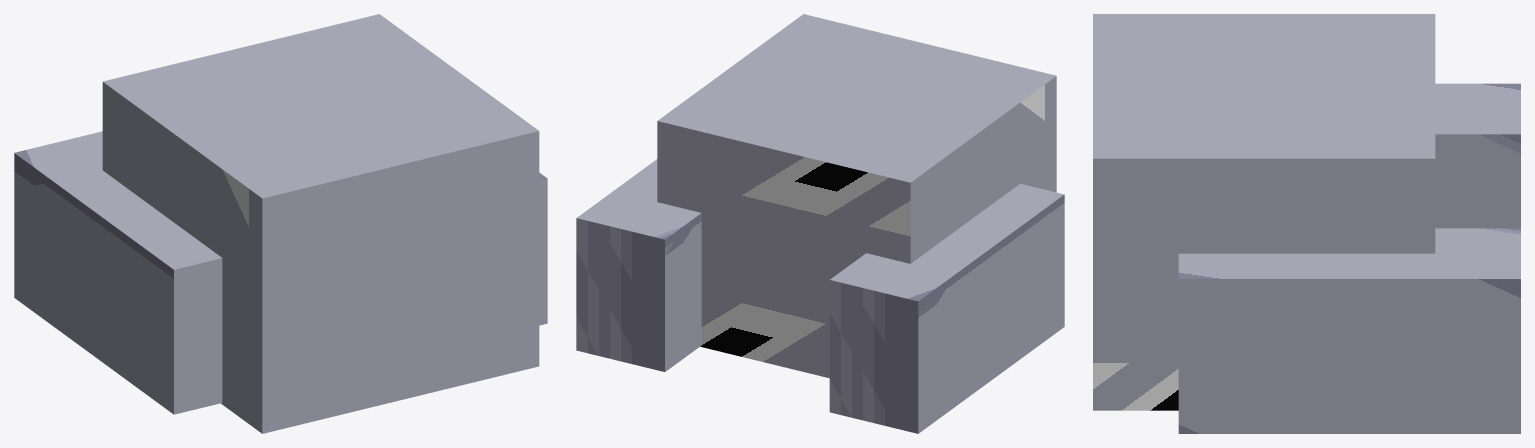
The model's file is char-sitting-fixed.gltf.
3 views of the same model, side by side, from view 1: azimuth 30°, elevation 25°; view 2: azimuth 150°, elevation 25°; view 3: azimuth 270°, elevation 25° (orthographic). The views are drawn at different scales.
Parts seen in each view (by area): view 1: body, bodysize (×2); view 2: body, bodysize (×2); view 3: body, bodysize (×2).
Part boxes in pixels (x1,y1,x2,y2): body: (102, 14, 539, 433); bodysize (×2): (14, 131, 547, 414); body: (657, 14, 1056, 378); bodysize (×2): (576, 159, 1064, 433); body: (1093, 14, 1435, 410); bodysize (×2): (1178, 83, 1520, 433).
Bounding box in the file's own units: 0.3375 × 0.2031 × 0.3125.
Materials: 1 (1 with a texture image).
